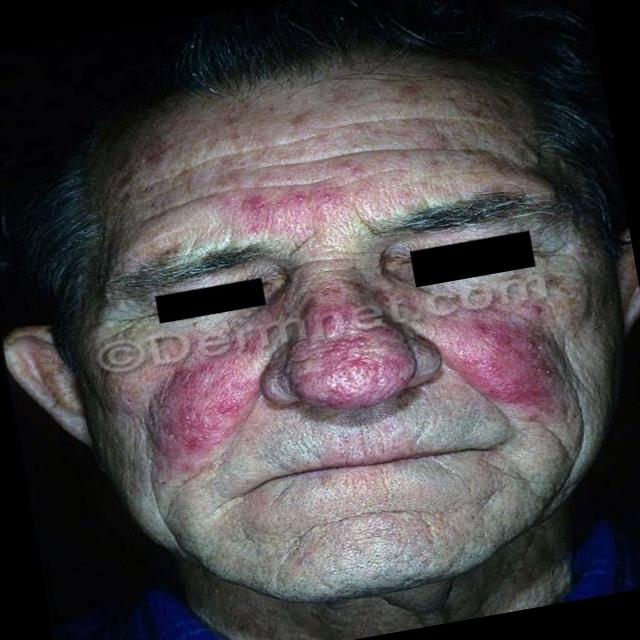skinredness: (72, 96, 554, 489)
